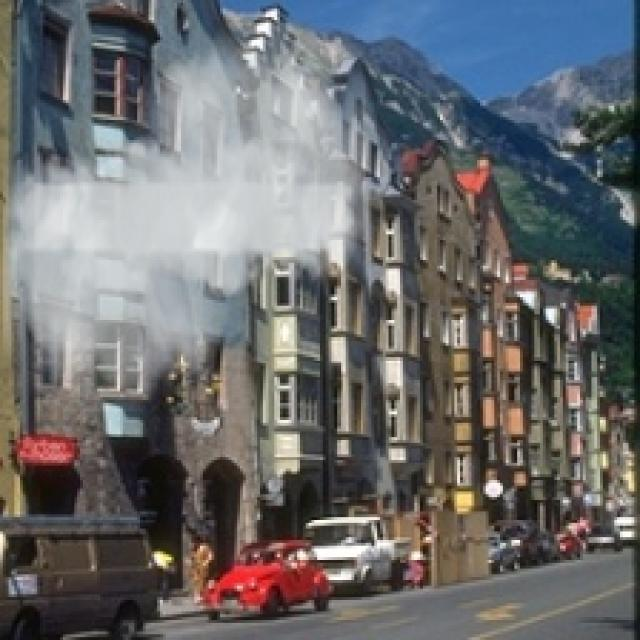Smoke: (3, 22, 366, 412)
